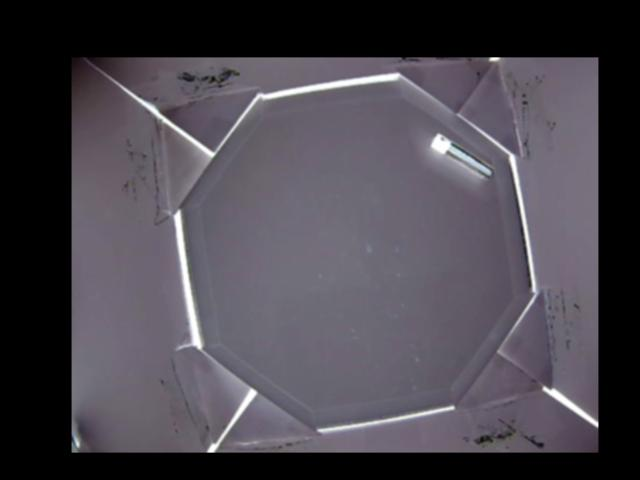Battery: (429, 134, 495, 178)
